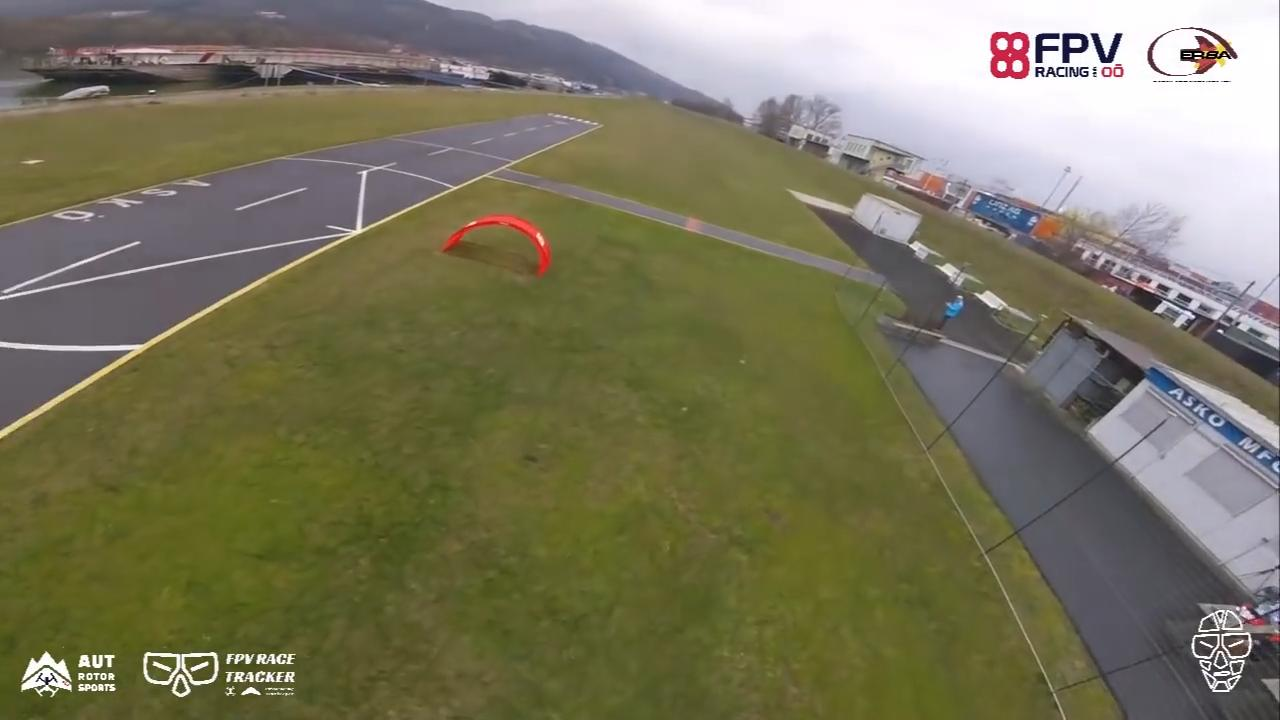gate: (441, 213, 553, 278)
